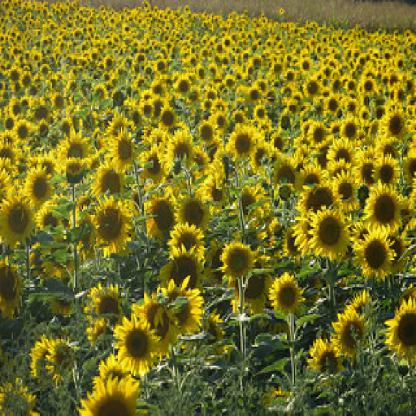SUN FLOWER: (4, 8, 408, 400)
